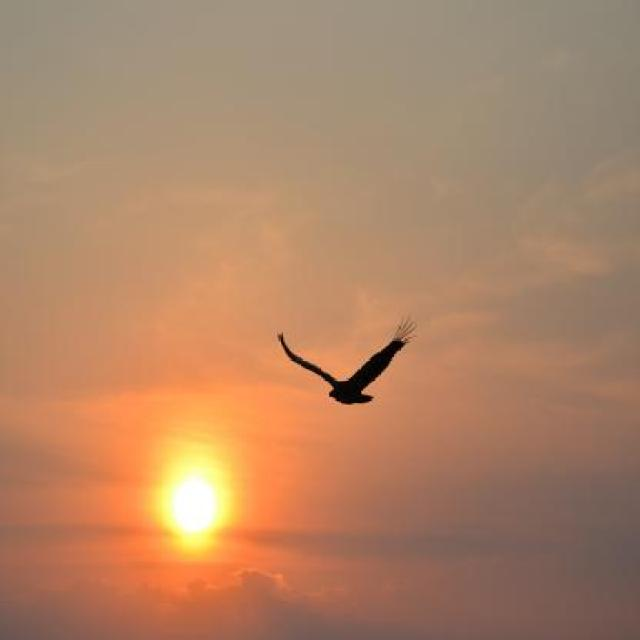bird: (279, 334, 398, 409)
